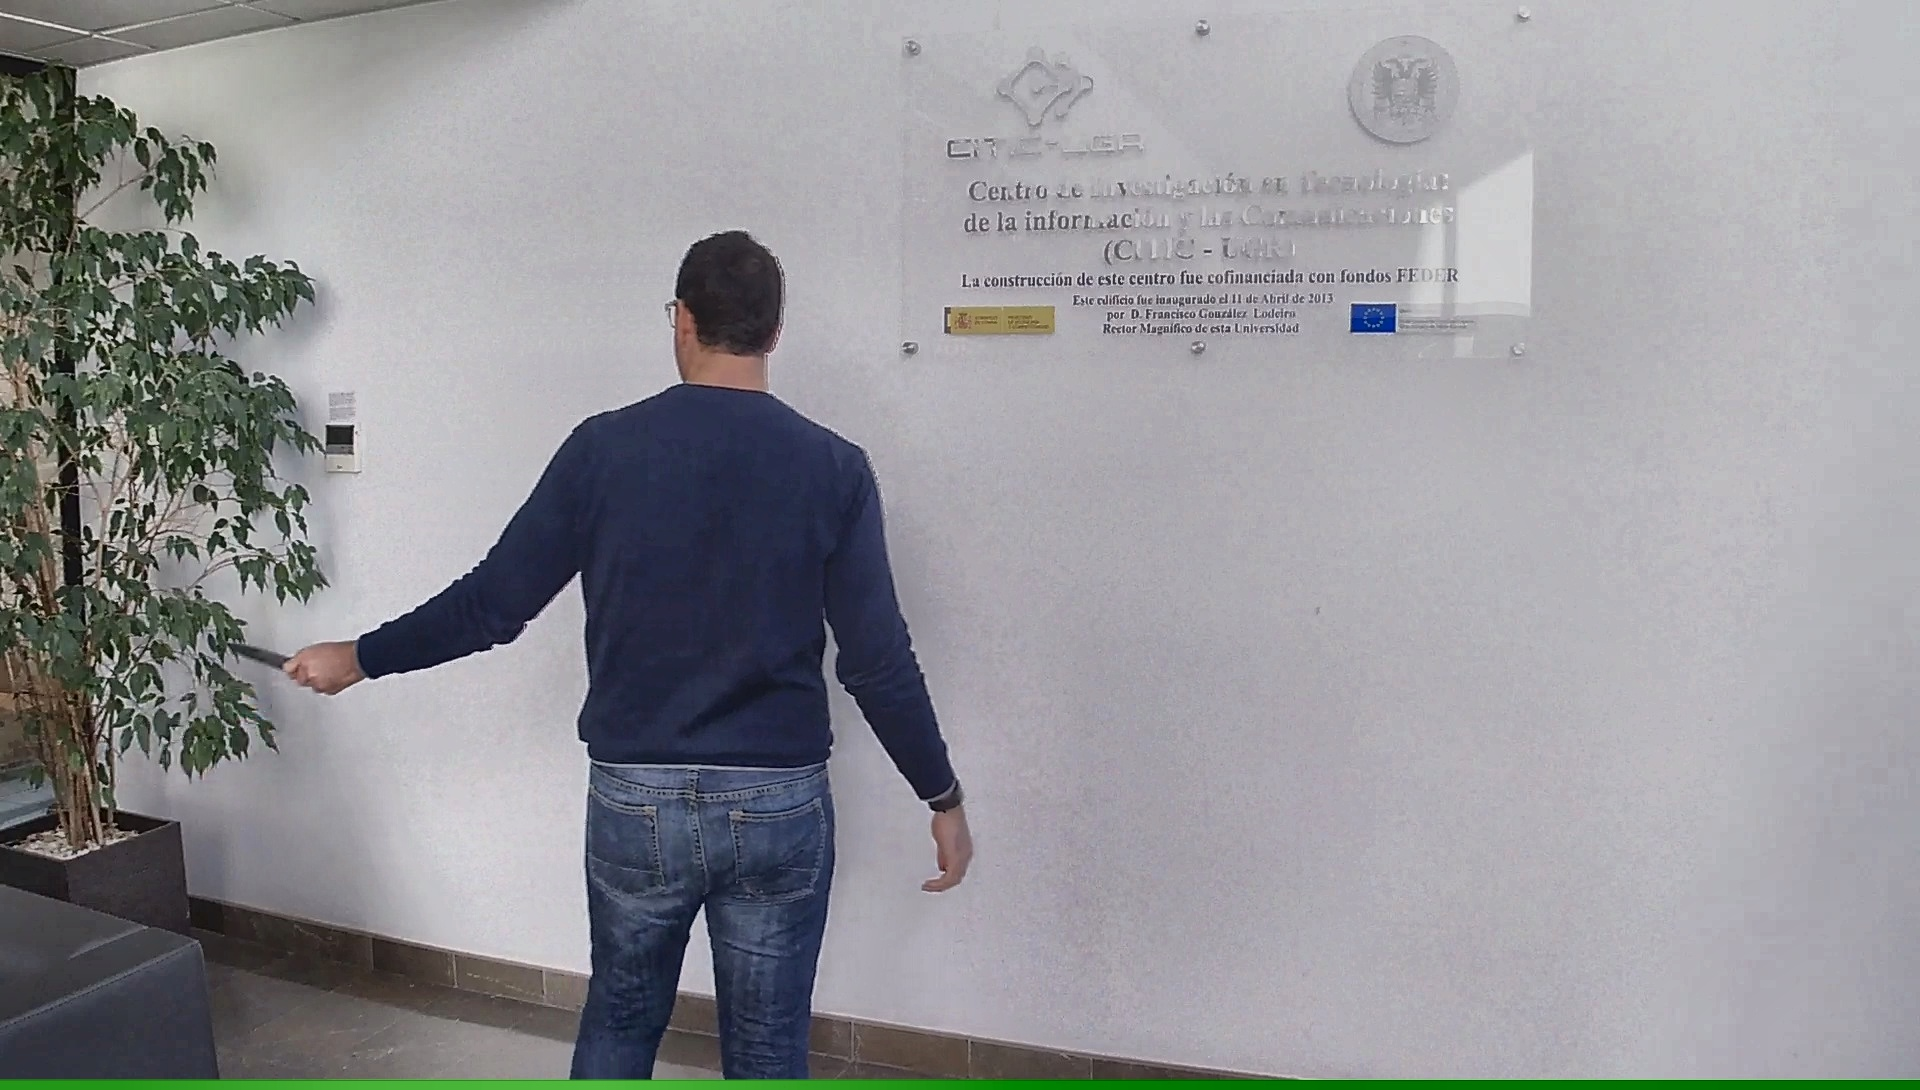knife: (218, 633, 335, 697)
